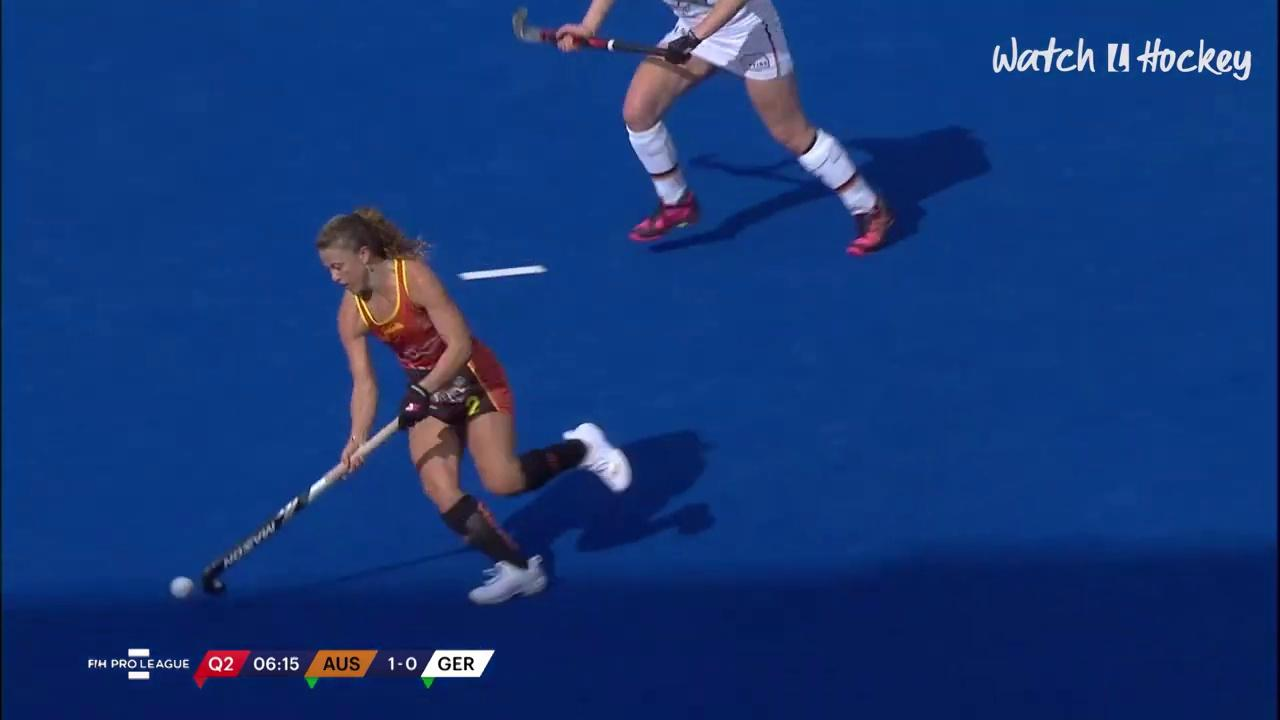ball: (157, 566, 205, 610)
